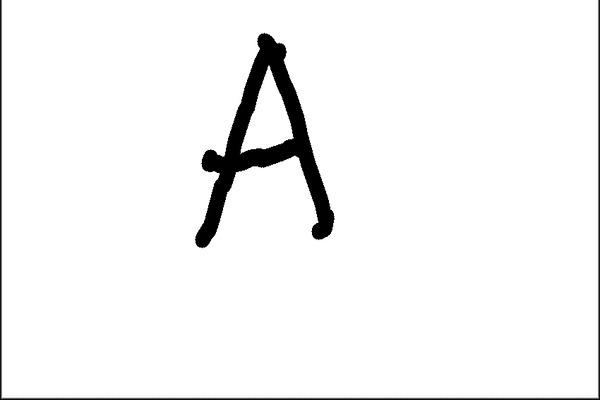A: (176, 20, 345, 249)
